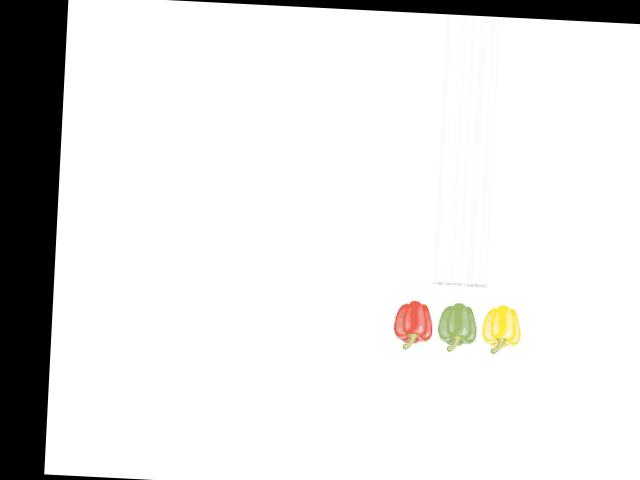bell_pepper: (478, 300, 524, 354)
